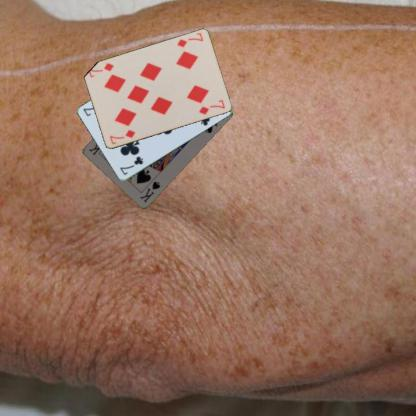7c: (118, 154, 144, 176)
7d: (107, 127, 136, 146), (174, 30, 204, 48)
Ks: (137, 178, 162, 204)
